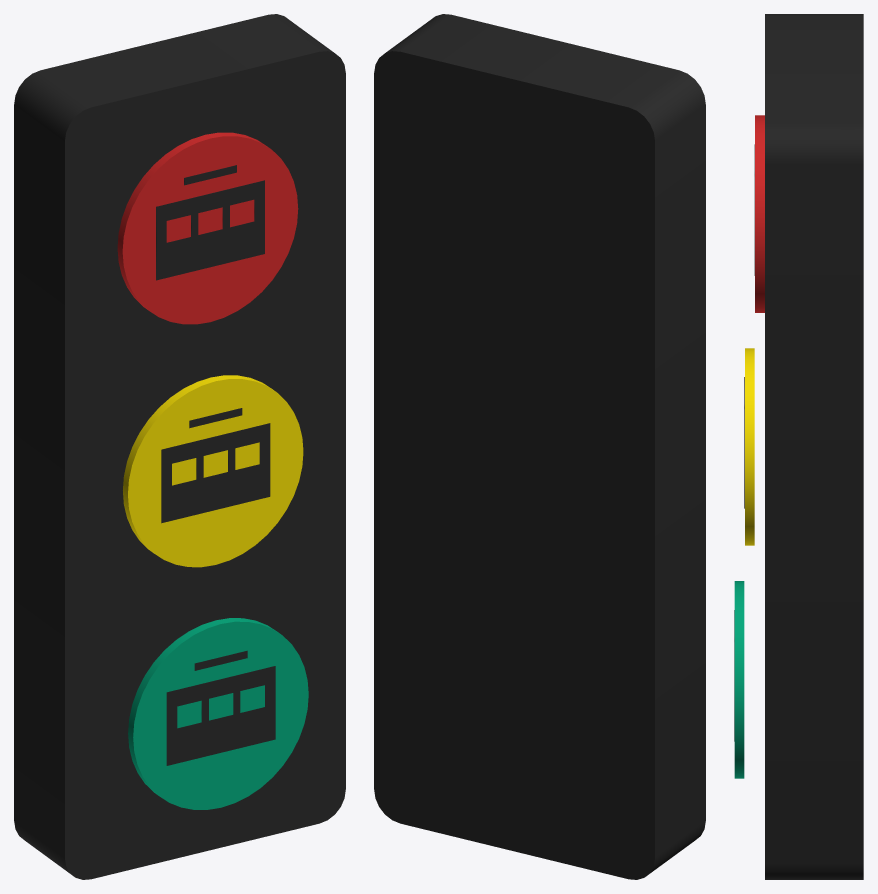
3 renders of one model, left to right at view 1: azimuth 30°, elevation 25°; view 2: azimuth 150°, elevation 25°; view 3: azimuth 270°, elevation 25°, orthographic. The views are drawn at different scales.
Visible parts, largest first — view 1: R13_r00, R13_d276, R13_d302, R13_d250, R13_s327, R13_s301, R13_s275; view 2: R13_r00; view 3: R13_r00, R13_d302, R13_d250, R13_d276.
Boxes of the visible parts, x1,y1,x2,y2 form: R13_r00: [14, 14, 345, 879]; R13_d276: [123, 375, 303, 567]; R13_d302: [128, 618, 308, 809]; R13_d250: [117, 132, 298, 324]; R13_s327: [166, 650, 275, 765]; R13_s301: [161, 408, 270, 523]; R13_s275: [156, 165, 264, 280]; R13_r00: [374, 14, 705, 879]; R13_r00: [765, 14, 863, 879]; R13_d302: [734, 581, 744, 778]; R13_d250: [755, 115, 764, 312]; R13_d276: [745, 348, 754, 545].
Bounding box in the file's own units: 0.32 × 0.84 × 0.1312.
